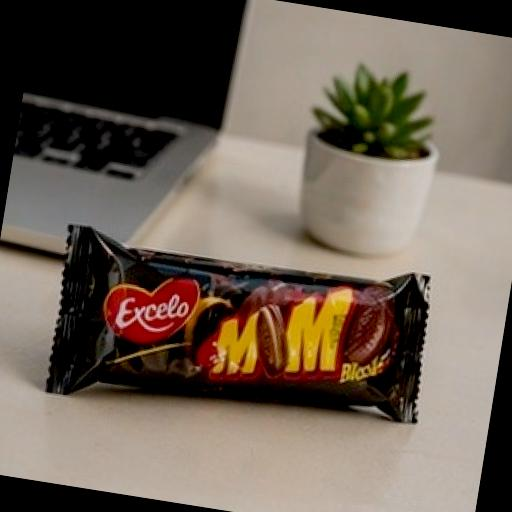MOMO: (0, 180, 495, 510)
